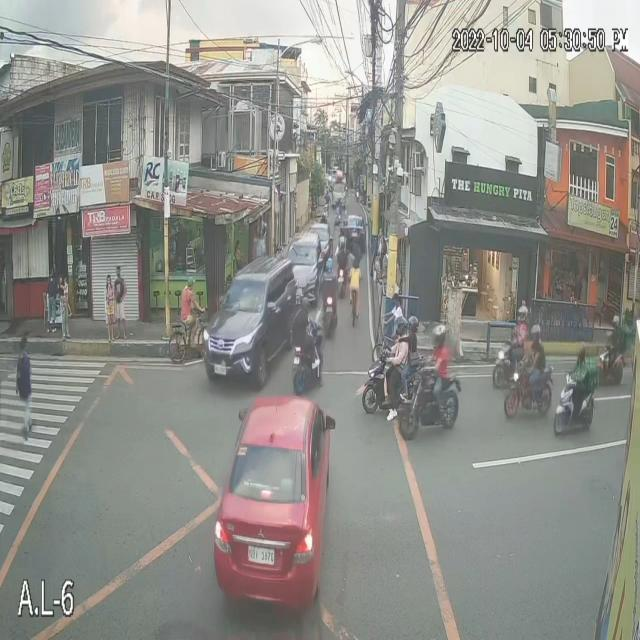Full-Faced: (300, 288, 314, 310), (518, 302, 531, 322), (317, 262, 331, 280), (573, 346, 585, 363), (530, 328, 542, 344), (432, 332, 442, 349), (408, 318, 418, 332), (395, 318, 406, 330), (610, 322, 620, 335)
Half-Faced: (337, 228, 350, 254)
Not-Wearing-Helmet: (352, 252, 362, 274)
